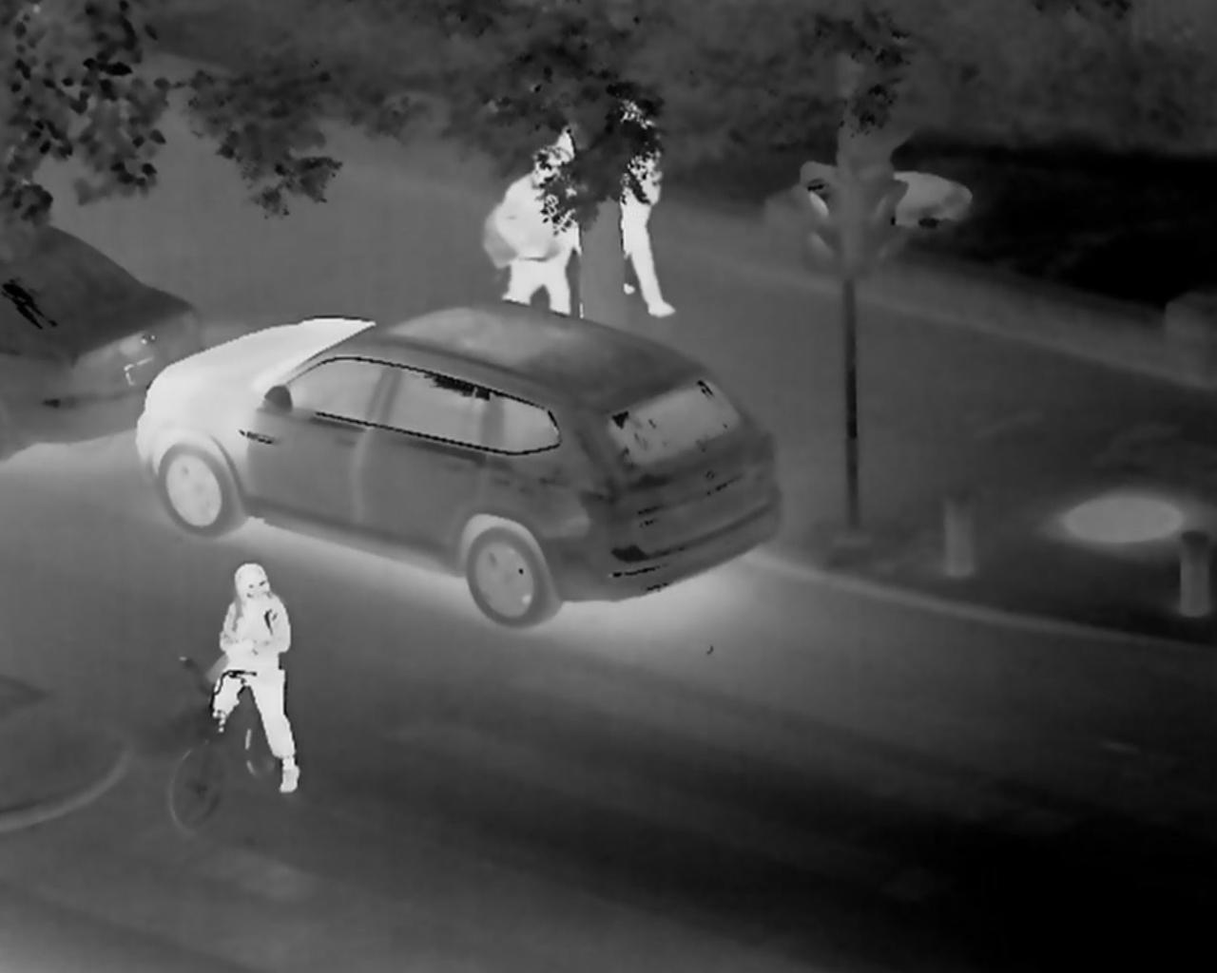person: (203, 558, 302, 794), (474, 142, 574, 319), (615, 105, 681, 318)
